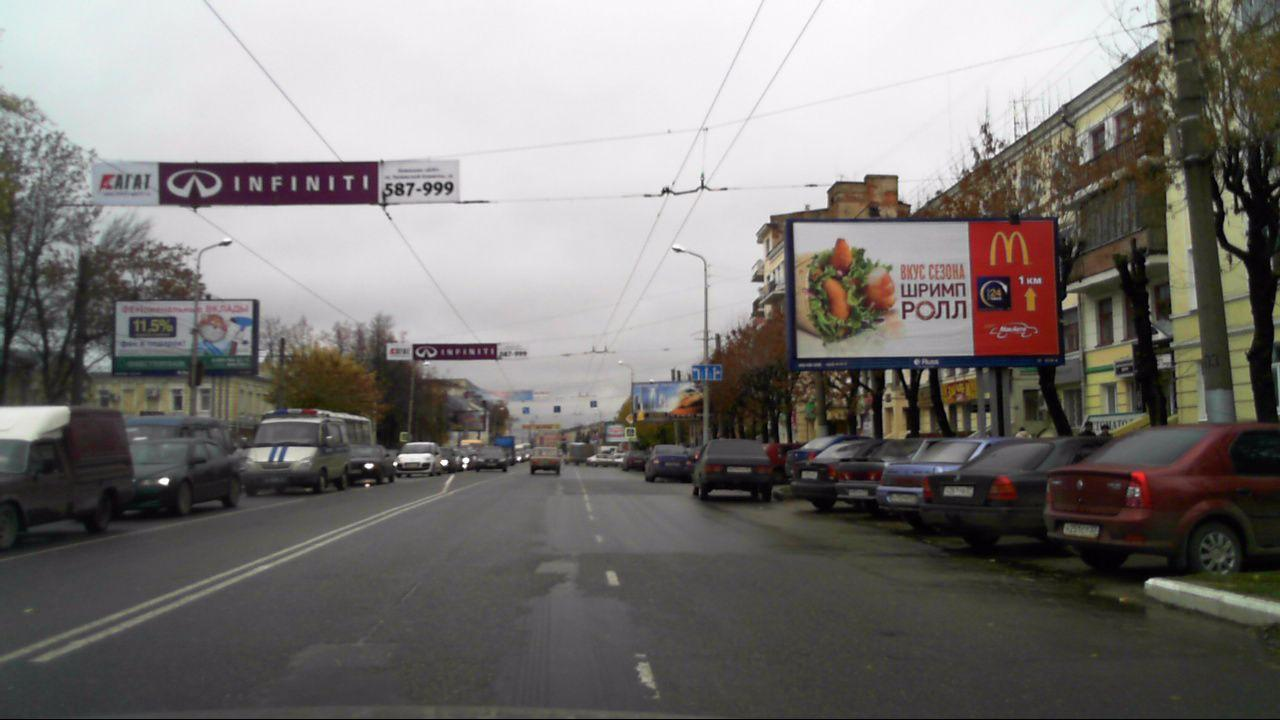2_1: (625, 413, 636, 424)
5_15_1: (690, 364, 722, 380)
5_15_2: (590, 400, 598, 408), (554, 405, 561, 413), (524, 407, 530, 414)
5_19_1: (626, 428, 635, 437)
